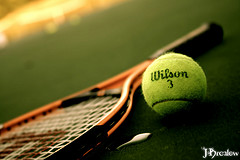tennis ball: (141, 52, 207, 115)
